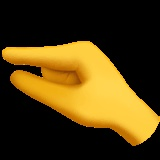megal: (1, 35, 159, 149)
